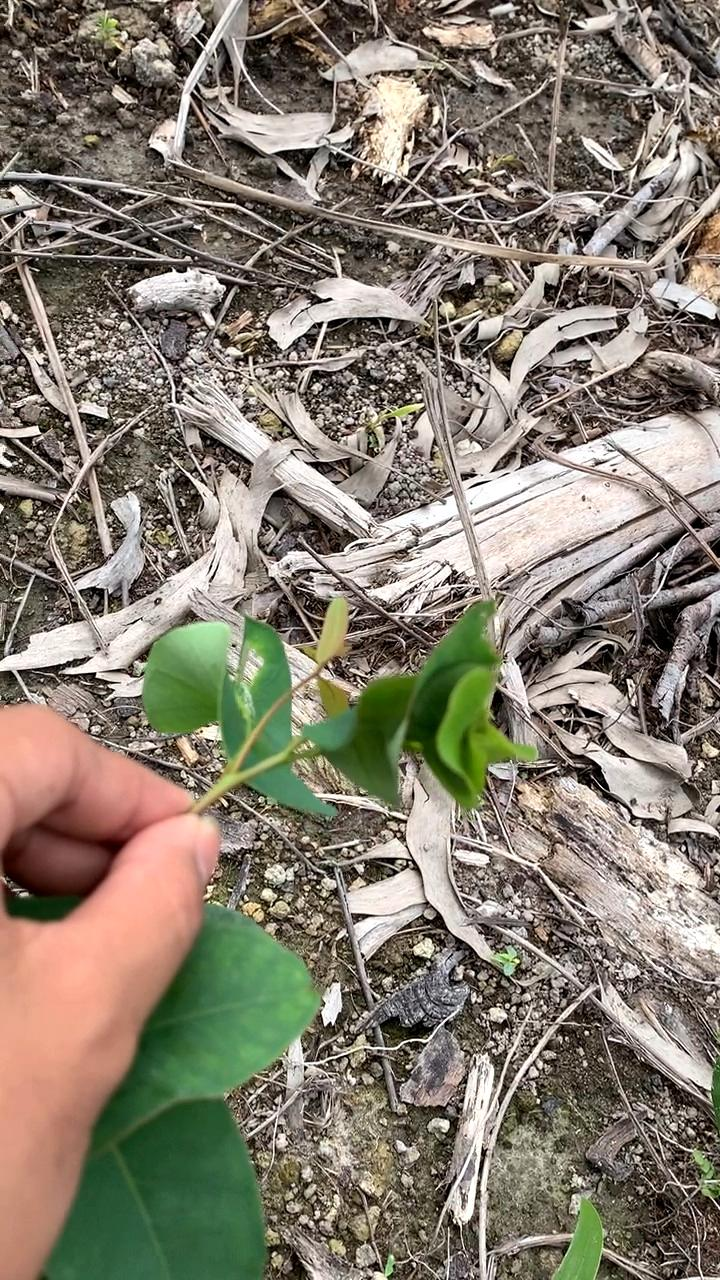Leaf Roller - Leaf: (301, 588, 573, 876)
